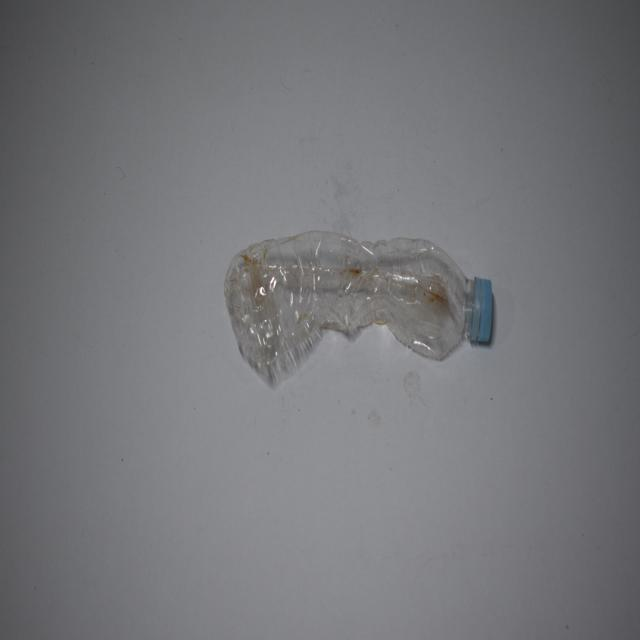empty: (224, 231, 493, 384)
